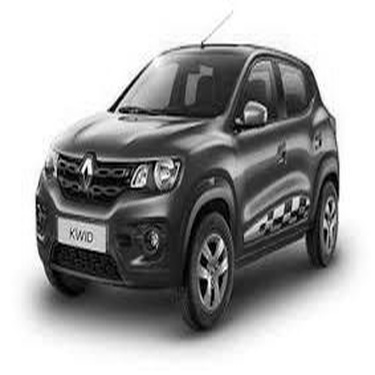car: (33, 34, 345, 335)
